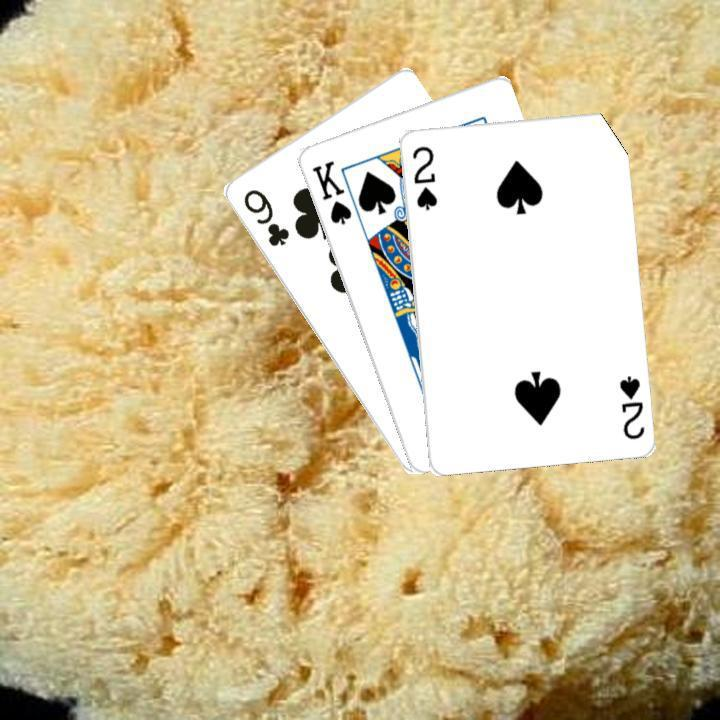2: (407, 141, 439, 212), (615, 370, 646, 441)
9: (238, 184, 291, 249)
K: (307, 156, 354, 227)
